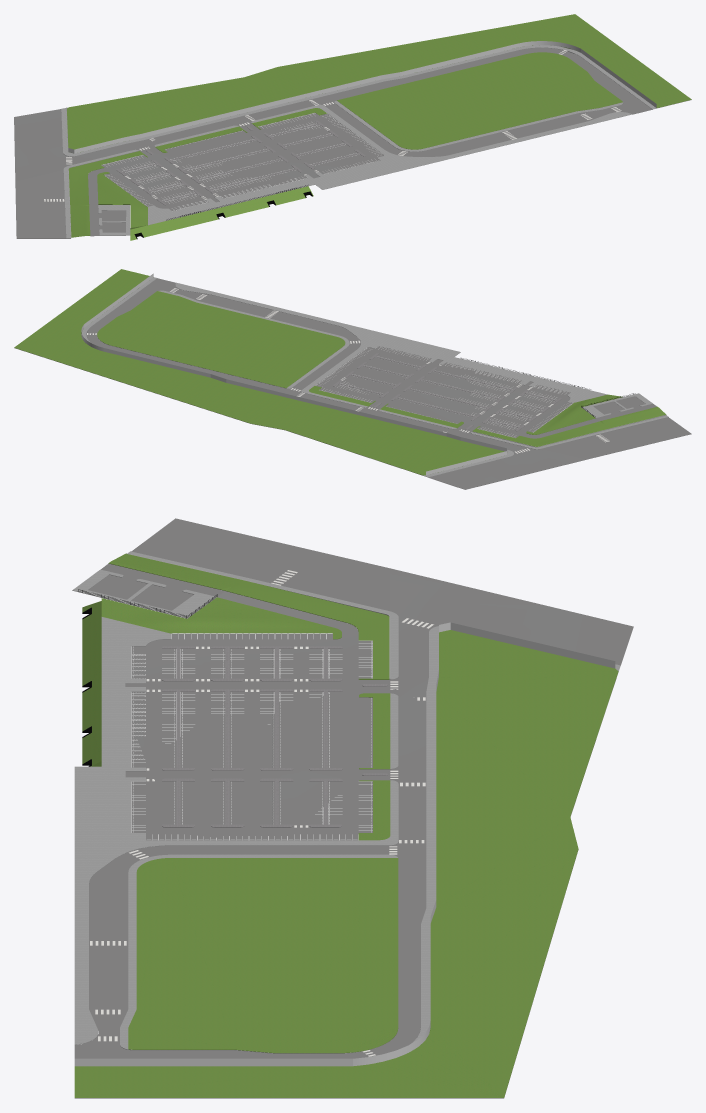
File: 07_ParkingZone.fbx
The picture shows the model from 3 angles, top to bottom: view 1: azimuth 30°, elevation 25°; view 2: azimuth 150°, elevation 25°; view 3: azimuth 270°, elevation 25°; orthographic projection. The views are drawn at different scales.
Visible parts, largest first — view 1: 07 주차장 + 외부환경.003, 07 주차장 + 외부환경.007, 07 주차장 + 외부환경.005, 07 주차장 + 외부환경.002, 07 주차장 + 외부환경.009, 07 주차장 + 외부환경.008, 07 주차장 + 외부환경; view 2: 07 주차장 + 외부환경.003, 07 주차장 + 외부환경.007, 07 주차장 + 외부환경.005, 07 주차장 + 외부환경.002, 07 주차장 + 외부환경.009, 07 주차장 + 외부환경.008, 07 주차장 + 외부환경; view 3: 07 주차장 + 외부환경.003, 07 주차장 + 외부환경.007, 07 주차장 + 외부환경.005, 07 주차장 + 외부환경.009, 07 주차장 + 외부환경.008, 07 주차장 + 외부환경.002, 07 주차장 + 외부환경.
Part boxes in pixels (x1=…): 07 주차장 + 외부환경.003: x1=67, y1=14, x2=691, y2=240; 07 주차장 + 외부환경.007: x1=14, y1=47, x2=652, y2=238; 07 주차장 + 외부환경.005: x1=61, y1=45, x2=691, y2=238; 07 주차장 + 외부환경.002: x1=66, y1=41, x2=656, y2=153; 07 주차장 + 외부환경.009: x1=116, y1=120, x2=365, y2=205; 07 주차장 + 외부환경.008: x1=101, y1=113, x2=384, y2=211; 07 주차장 + 외부환경: x1=44, y1=50, x2=621, y2=201; 07 주차장 + 외부환경.003: x1=14, y1=269, x2=665, y2=475; 07 주차장 + 외부환경.007: x1=86, y1=278, x2=691, y2=489; 07 주차장 + 외부환경.005: x1=14, y1=277, x2=668, y2=477; 07 주차장 + 외부환경.002: x1=81, y1=273, x2=507, y2=475; 07 주차장 + 외부환경.009: x1=333, y1=353, x2=561, y2=431; 07 주차장 + 외부환경.008: x1=315, y1=346, x2=572, y2=437; 07 주차장 + 외부환경: x1=87, y1=288, x2=609, y2=453; 07 주차장 + 외부환경.003: x1=74, y1=553, x2=618, y2=1097; 07 주차장 + 외부환경.007: x1=74, y1=518, x2=633, y2=1058; 07 주차장 + 외부환경.005: x1=72, y1=551, x2=620, y2=1098; 07 주차장 + 외부환경.009: x1=162, y1=646, x2=387, y2=827; 07 주차장 + 외부환경.008: x1=131, y1=633, x2=372, y2=840; 07 주차장 + 외부환경.002: x1=74, y1=622, x2=615, y2=1066; 07 주차장 + 외부환경: x1=90, y1=570, x2=433, y2=1056.
Bounding box in the file's own units: 48616 × 749 × 19835.
